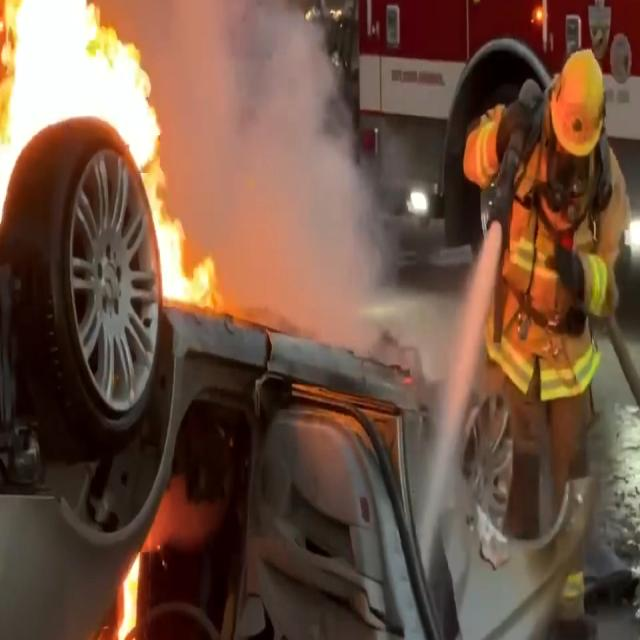fire: (0, 0, 219, 301)
smoke: (228, 19, 404, 364)
